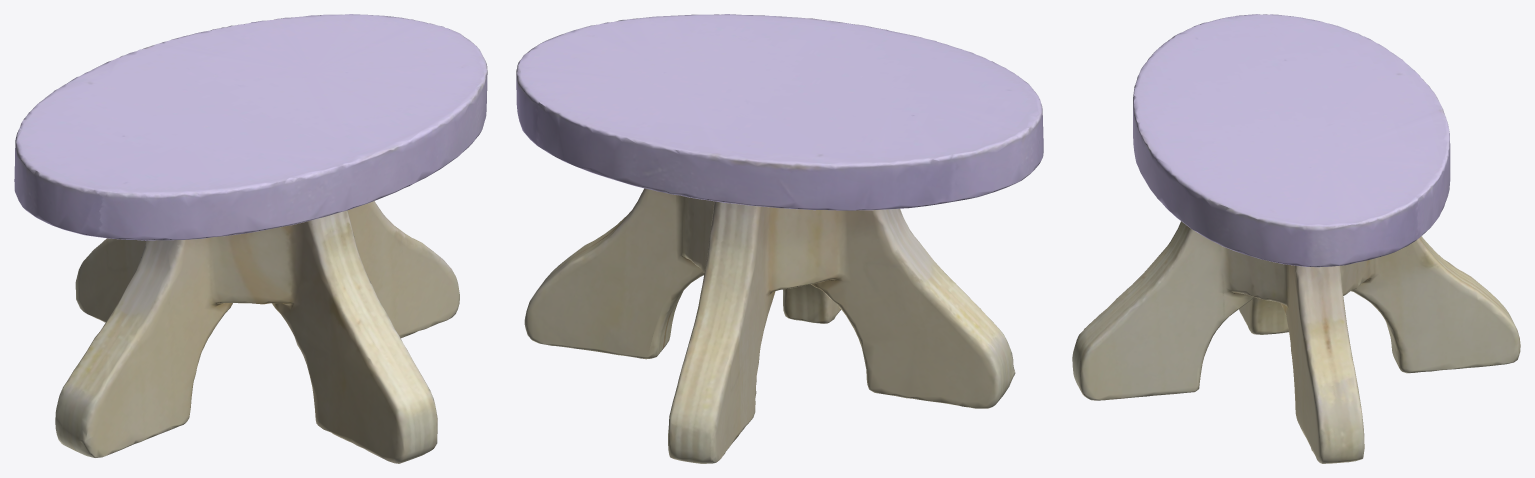
The model's file is 3D_Dollhouse_TablePurple.glb.
3 views of the same model, side by side, from view 1: azimuth 30°, elevation 25°; view 2: azimuth 150°, elevation 25°; view 3: azimuth 270°, elevation 25° (orthographic). The views are drawn at different scales.
Visible parts, largest first — view 1: 3D_Dollhouse_TablePurple; view 2: 3D_Dollhouse_TablePurple; view 3: 3D_Dollhouse_TablePurple.
Boxes of the visible parts, <box> form: 3D_Dollhouse_TablePurple: <box>14,14,487,463</box>; 3D_Dollhouse_TablePurple: <box>516,14,1043,463</box>; 3D_Dollhouse_TablePurple: <box>1072,14,1520,463</box>.
Size of the model in its own units: 0.098 by 0.0574 by 0.0901.
Materials: 1 (1 with a texture image).
